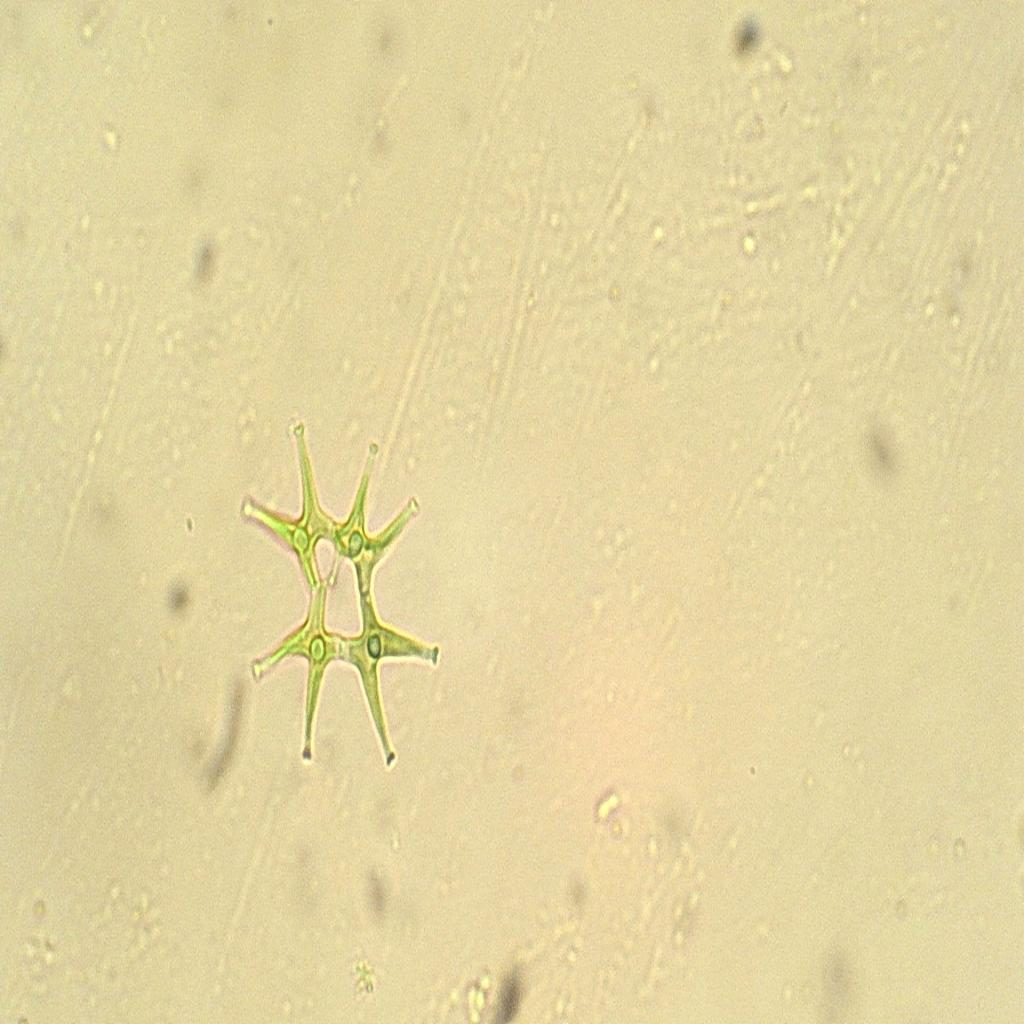Pediastrum_75FO: (228, 402, 450, 790)
